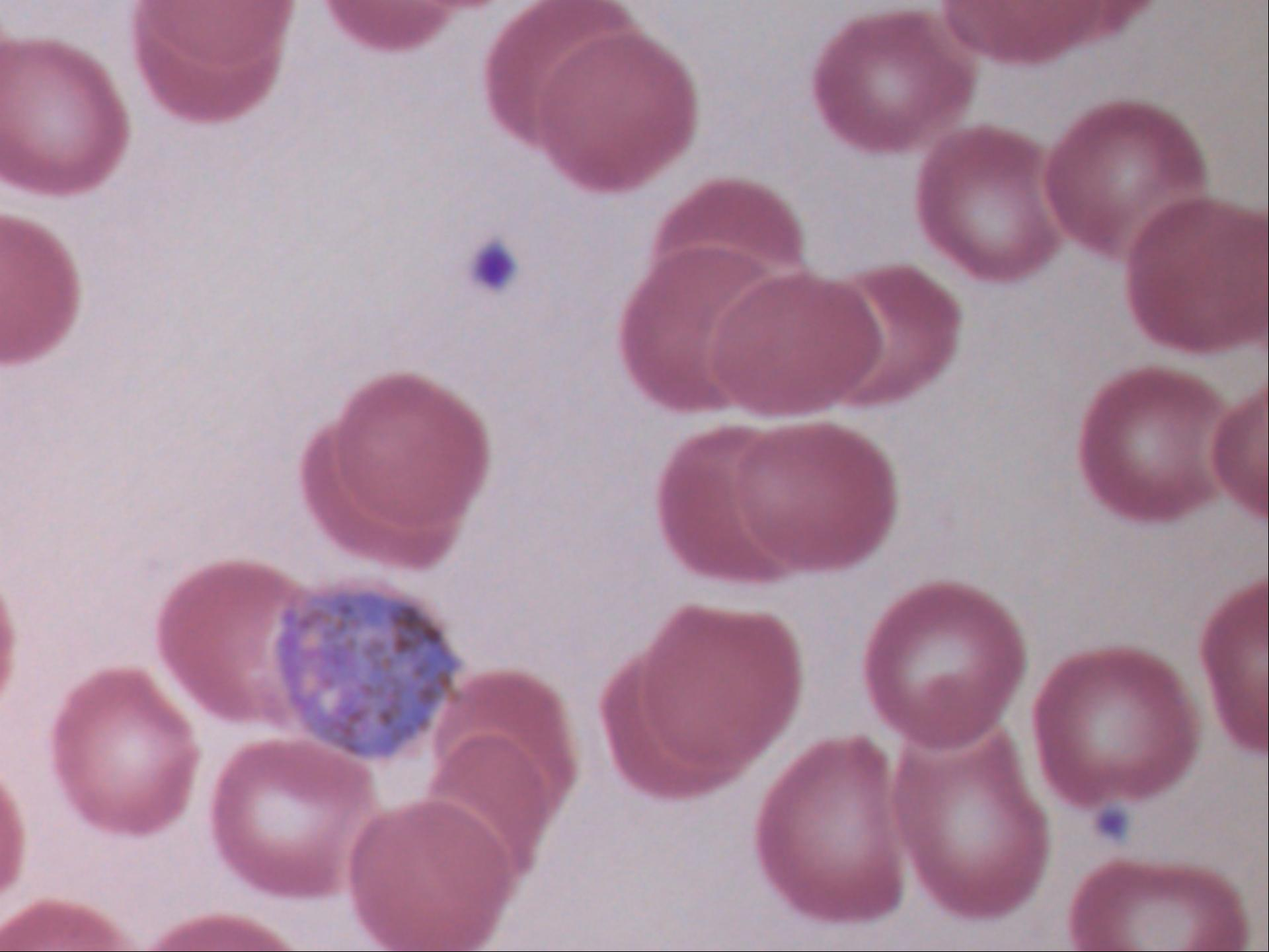Infected: (269, 576, 460, 763)
Uninfected: (890, 675, 1049, 923), (705, 247, 884, 416), (632, 604, 802, 777), (205, 738, 377, 906), (337, 789, 514, 952), (533, 21, 696, 188), (148, 562, 308, 727), (1044, 98, 1213, 254), (727, 421, 897, 574), (295, 419, 458, 576), (1080, 368, 1234, 533), (1044, 642, 1201, 802), (817, 0, 981, 153), (623, 245, 777, 406), (767, 734, 896, 926), (51, 675, 200, 840), (1132, 184, 1269, 363), (919, 117, 1071, 278), (864, 589, 1018, 745), (330, 377, 488, 527), (441, 668, 580, 837), (593, 659, 742, 804), (478, 0, 621, 144), (661, 426, 792, 583), (0, 40, 126, 194), (427, 730, 551, 876), (857, 252, 961, 414), (138, 0, 282, 117)
